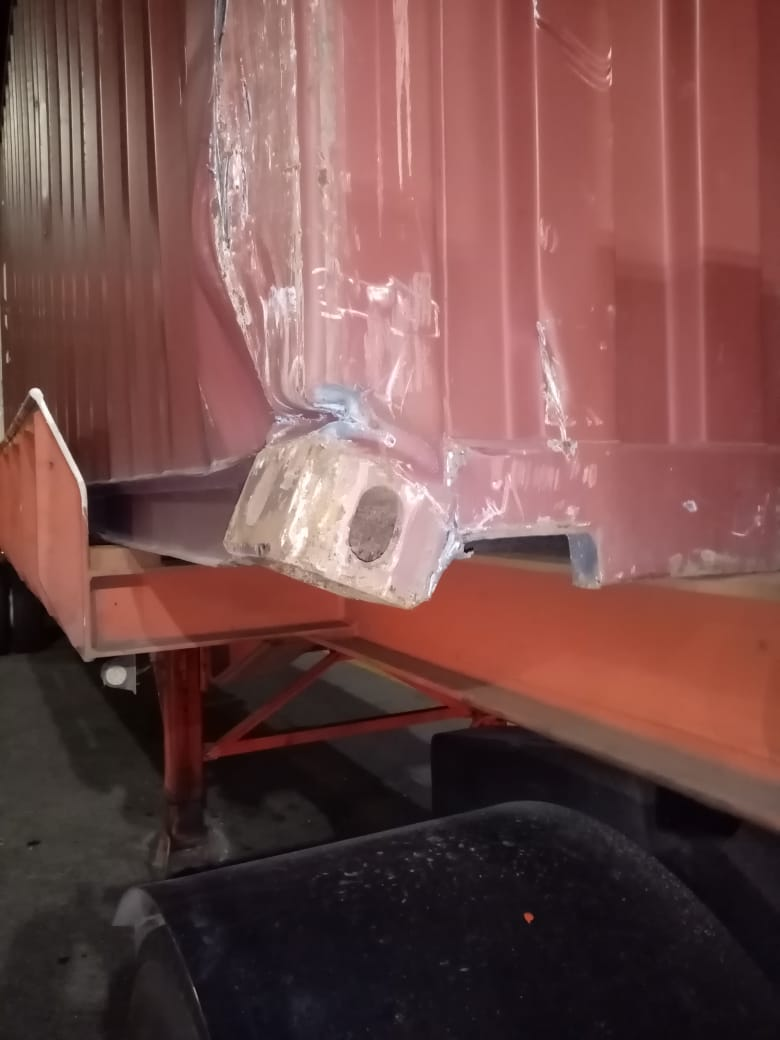bulged: (126, 91, 304, 402)
dented: (229, 233, 467, 589)
